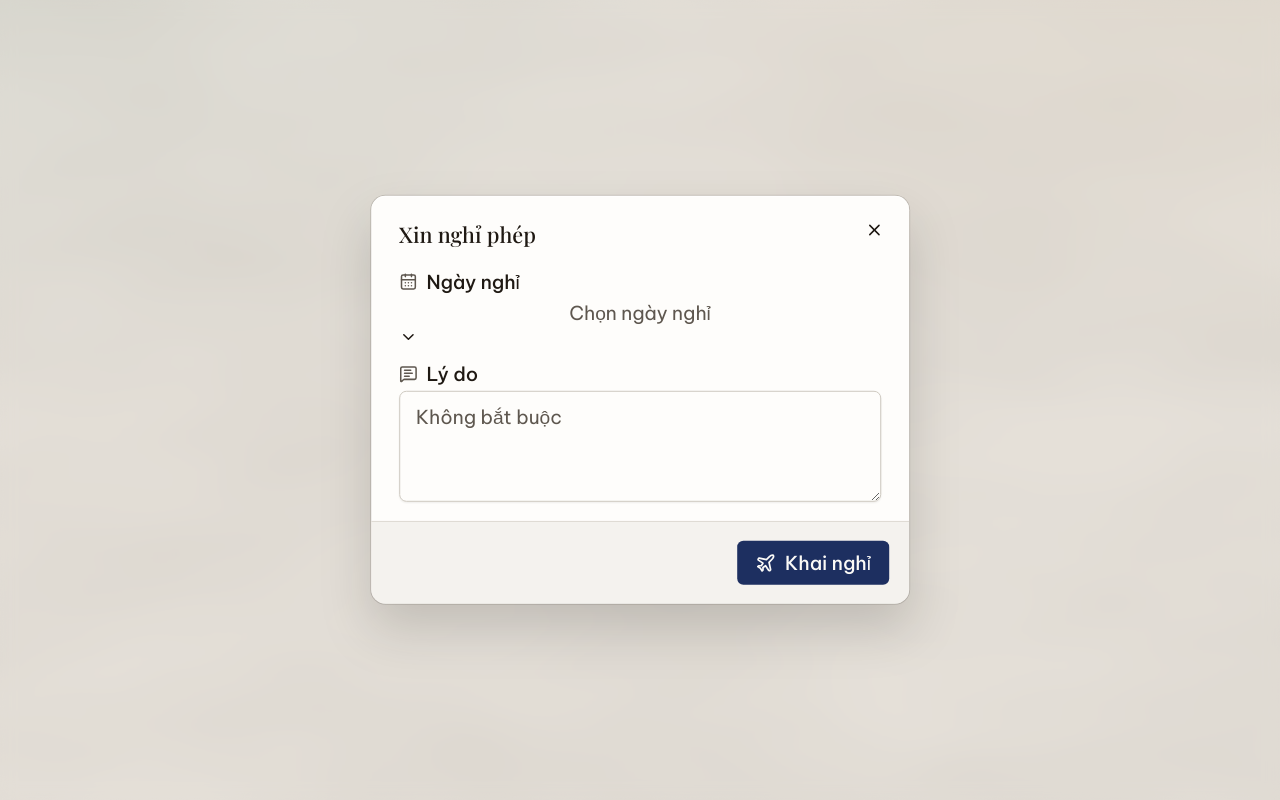
Test: LeaveDialog › không gửi khi chưa chọn ngày
Click the button "Khai nghỉ".
click(813, 563)  # box [736, 540, 890, 586]
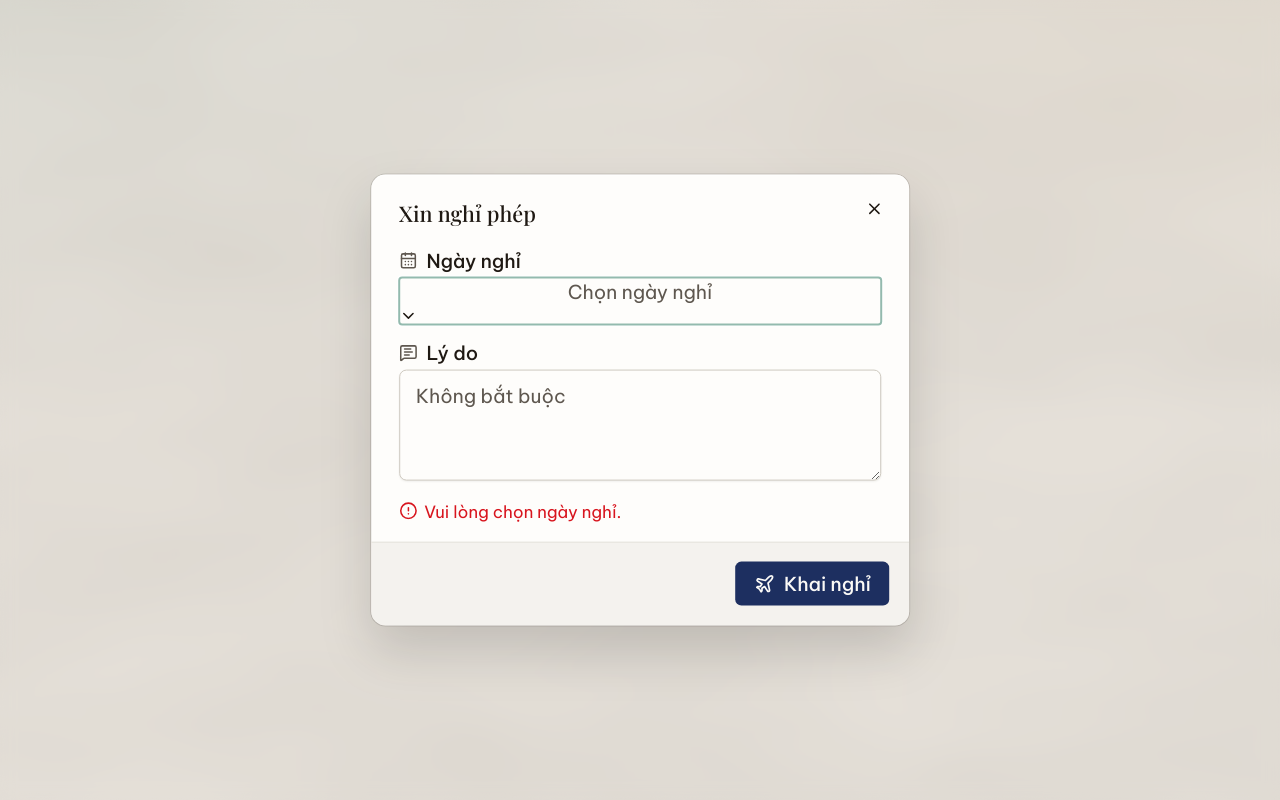
Expected: the text "Vui lòng chọn ngày nghỉ." is shown, [399, 500, 621, 521]
